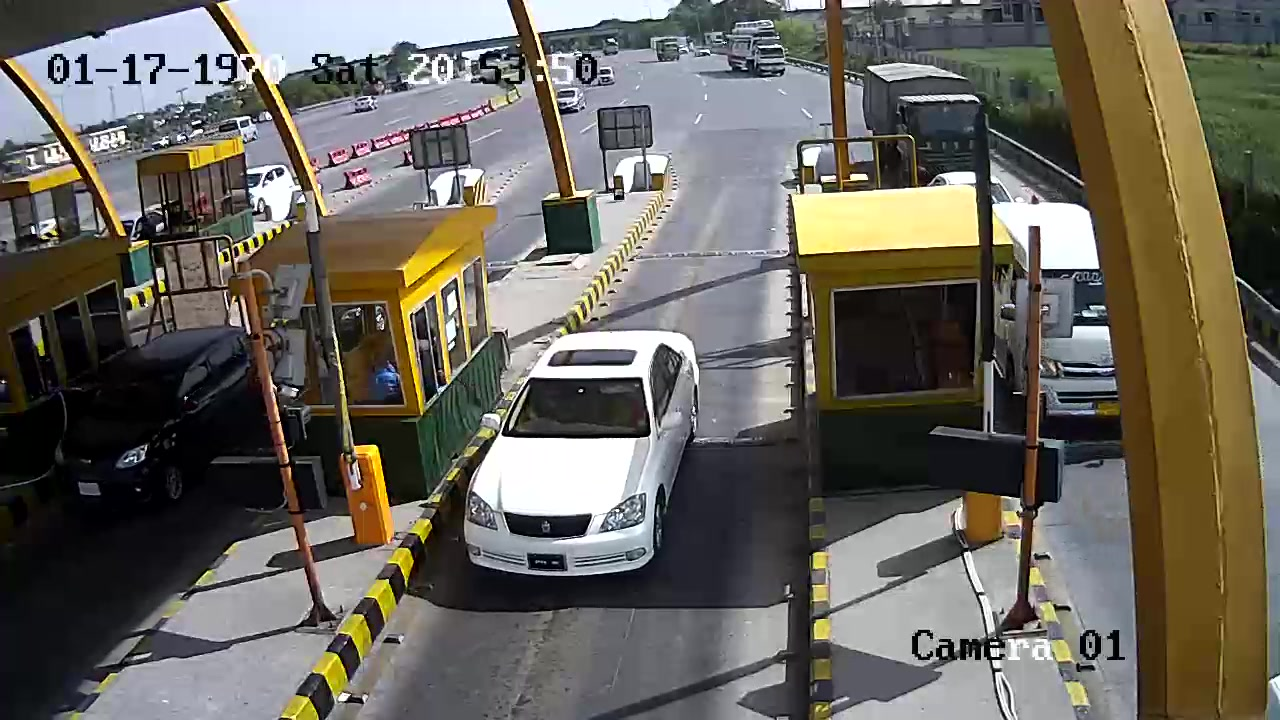F1: (449, 321, 714, 579)
